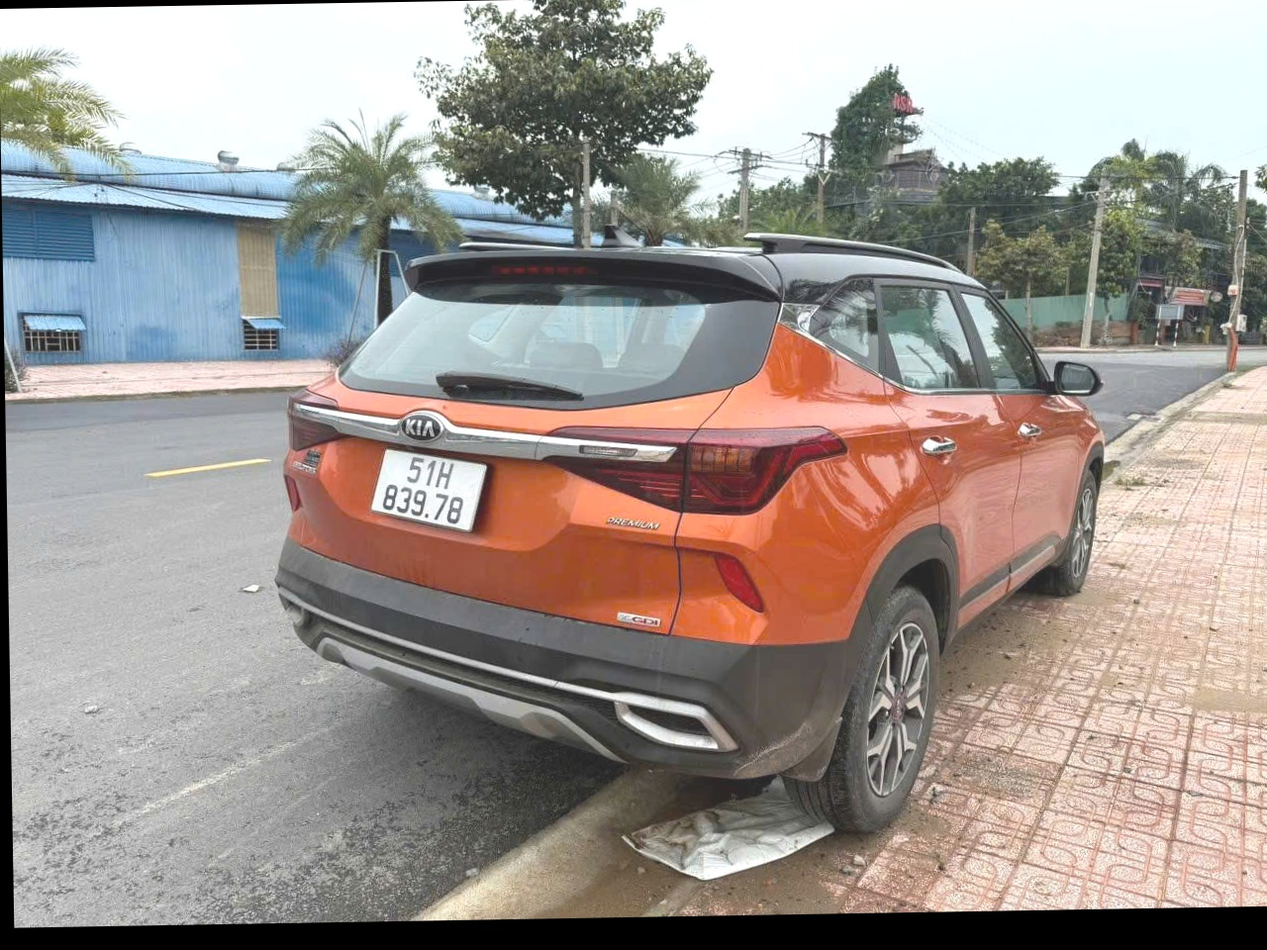Bien-so: (351, 456, 470, 548)
